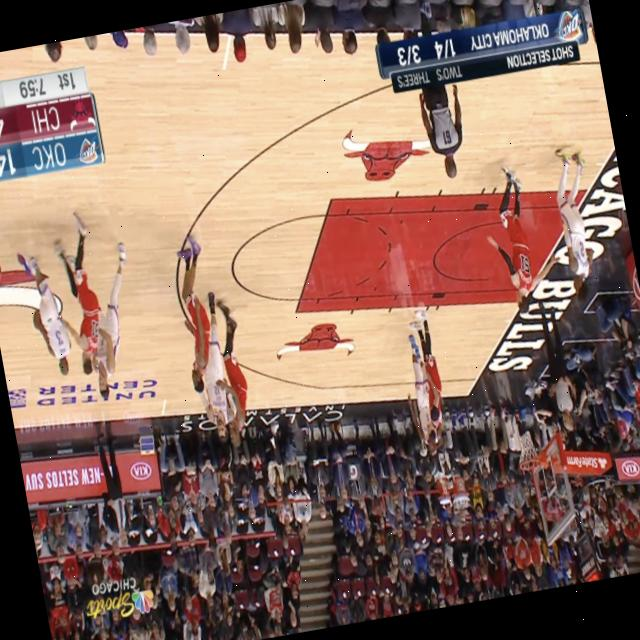no foul: (0, 204, 154, 430), (160, 216, 276, 459), (386, 296, 455, 453)
